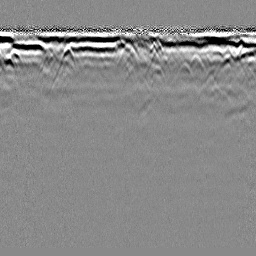cavity: (115, 42, 140, 70)
